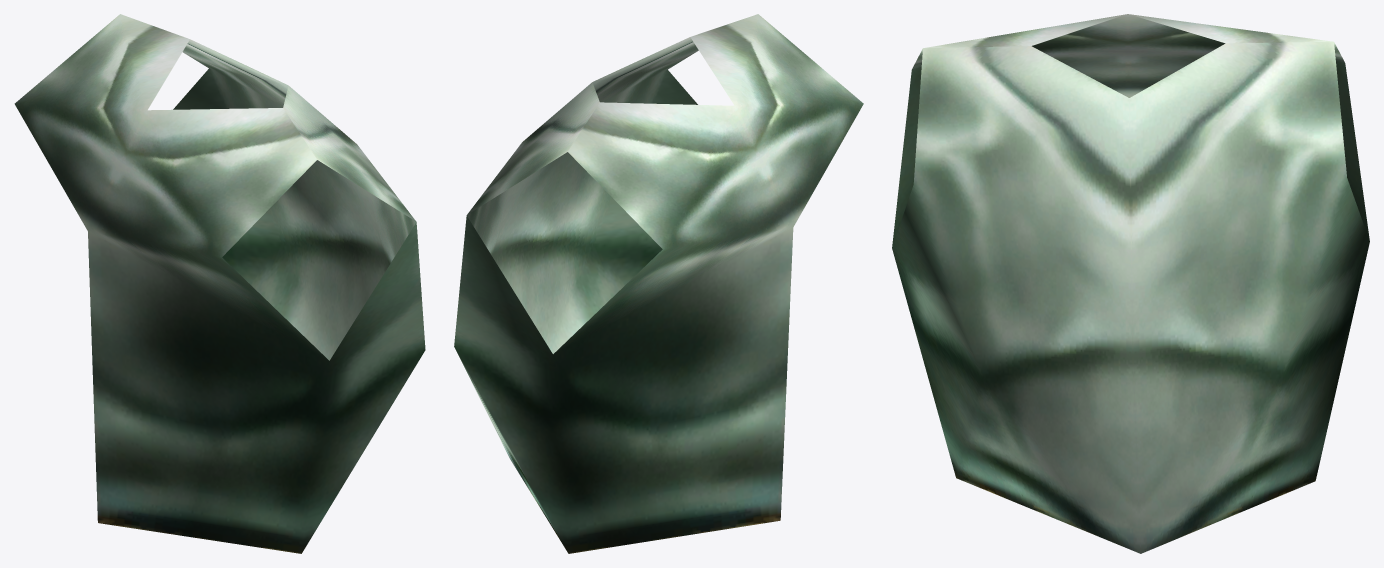
The model's file is armorbreastplategreen.obj.
The picture shows the model from 3 angles, left to right: view 1: azimuth 30°, elevation 25°; view 2: azimuth 150°, elevation 25°; view 3: azimuth 270°, elevation 25°; orthographic projection. The views are drawn at different scales.
Visible parts, largest first — view 1: armorbreastplategreen; view 2: armorbreastplategreen; view 3: armorbreastplategreen.
Boxes of the visible parts, box(x1,y1,x2,y2) form: armorbreastplategreen: box(14, 14, 425, 553); armorbreastplategreen: box(454, 14, 863, 553); armorbreastplategreen: box(892, 14, 1369, 553).
Size of the model in its own units: 0.4555 by 0.6098 by 0.5956.
Materials: 1 (1 with a texture image).
